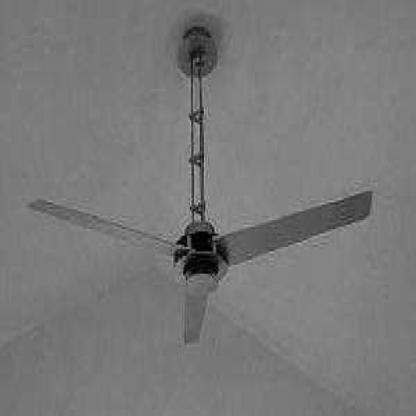ceiling-fan: (24, 16, 374, 343)
